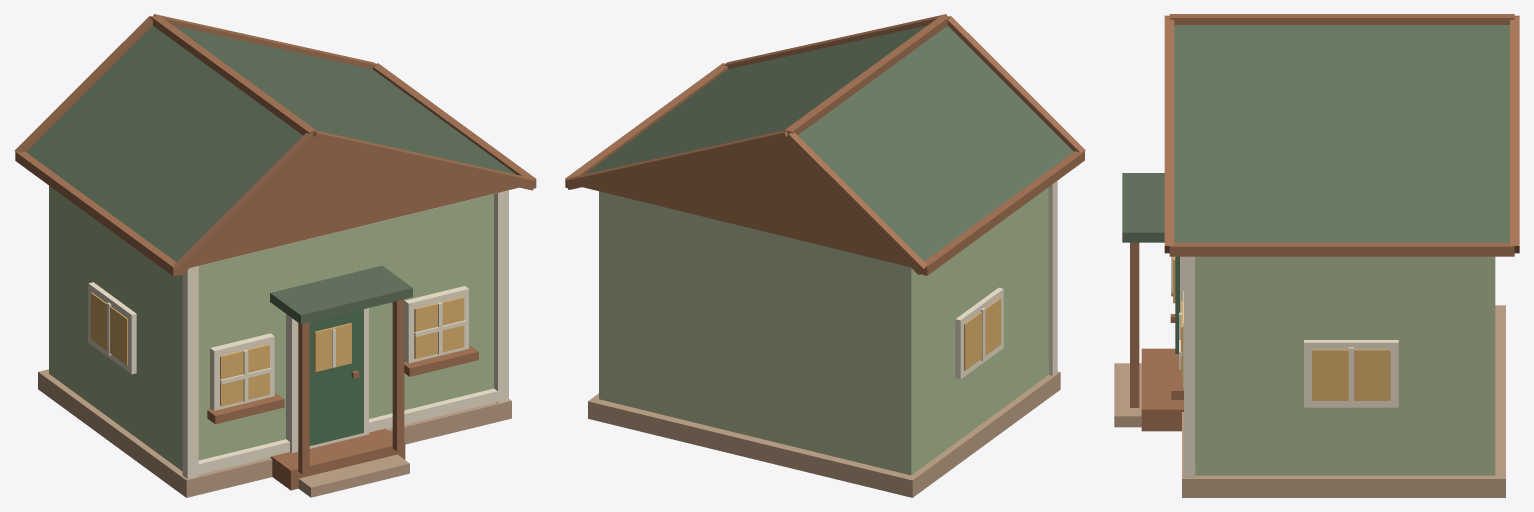
3 views of the same model, side by side, from view 1: azimuth 30°, elevation 25°; view 2: azimuth 150°, elevation 25°; view 3: azimuth 270°, elevation 25° (orthographic). The views are drawn at different scales.
Parts seen in each view (by area): view 1: Pitched roof, House shell, Foundation, Painted door, Covered entry fascia, Quoin, Entrance porch, Quoin.001, Facade base trim, Front right rake, West eaves, Front left rake (+17 smaller); view 2: House shell, Pitched roof, Foundation, Back right rake, West eaves, Back left rake, Ridge cap, Quoin, Front left rake, West window glazing, East eaves, Front right rake (+1 smaller); view 3: Pitched roof, House shell, Foundation, East eaves, East window glazing, Ridge cap, Covered entry fascia, Entrance porch, Front right rake, East window frame, Quoin.001, Back right rake (+4 smaller).
Boxes of the visible parts, box(x1,y1,x2,y2) form: Pitched roof: box(26, 25, 518, 267); House shell: box(49, 186, 493, 471); Foundation: box(38, 369, 511, 497); Painted door: box(309, 309, 363, 445); Covered entry fascia: box(270, 265, 412, 324); Quoin: box(182, 266, 198, 478); Entrance porch: box(270, 428, 405, 490); Quoin.001: box(494, 190, 508, 403); Facade base trim: box(198, 388, 497, 474); Front right rake: box(313, 131, 536, 190); West eaves: box(15, 151, 180, 276); Front left rake: box(174, 132, 317, 275); House shell: box(599, 187, 1048, 475); Pitched roof: box(582, 25, 1073, 267); Foundation: box(588, 371, 1060, 497); Back right rake: box(565, 130, 787, 189); West eaves: box(920, 151, 1084, 275); Back left rake: box(784, 132, 926, 274); Ridge cap: box(784, 14, 949, 135); Quoin: box(1048, 181, 1057, 375); Front left rake: box(947, 15, 1085, 152); West window glazing: box(964, 298, 1001, 370); East eaves: box(565, 63, 728, 187); Front right rake: box(724, 14, 946, 69); Pitched roof: box(1174, 25, 1509, 242); House shell: box(1195, 256, 1495, 475); Foundation: box(1182, 305, 1505, 497); East eaves: box(1169, 242, 1514, 256); East window glazing: box(1312, 349, 1390, 400); Ridge cap: box(1169, 14, 1514, 24); Covered entry fascia: box(1122, 173, 1164, 242); Entrance porch: box(1141, 348, 1183, 431); Front right rake: box(1164, 17, 1174, 253); East window frame: box(1304, 340, 1398, 407); Quoin.001: box(1184, 256, 1194, 477); Back right rake: box(1510, 17, 1519, 253).
Size of the model in its own units: 4.99 by 4.48 by 4.41.
